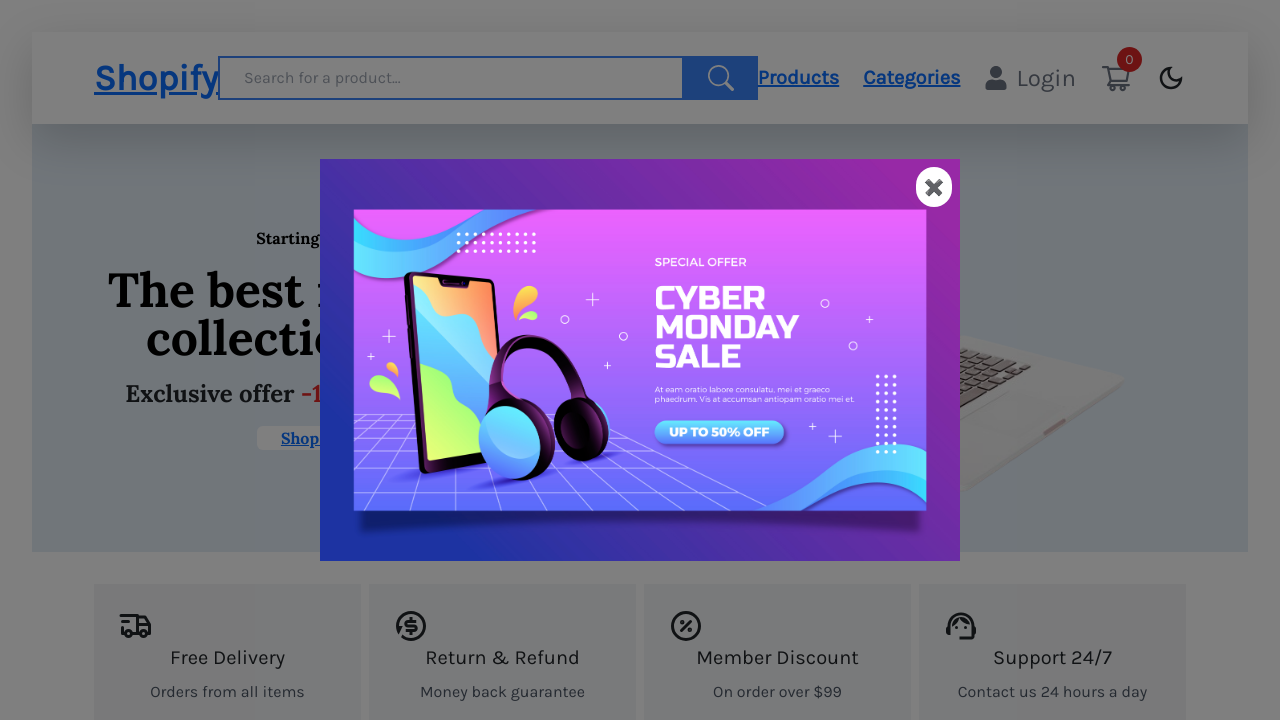
Test case: testing navbar functions › login & logout works properly
Click the button with test id "close-popup-btn" at (934, 187), box [916,167,952,207]
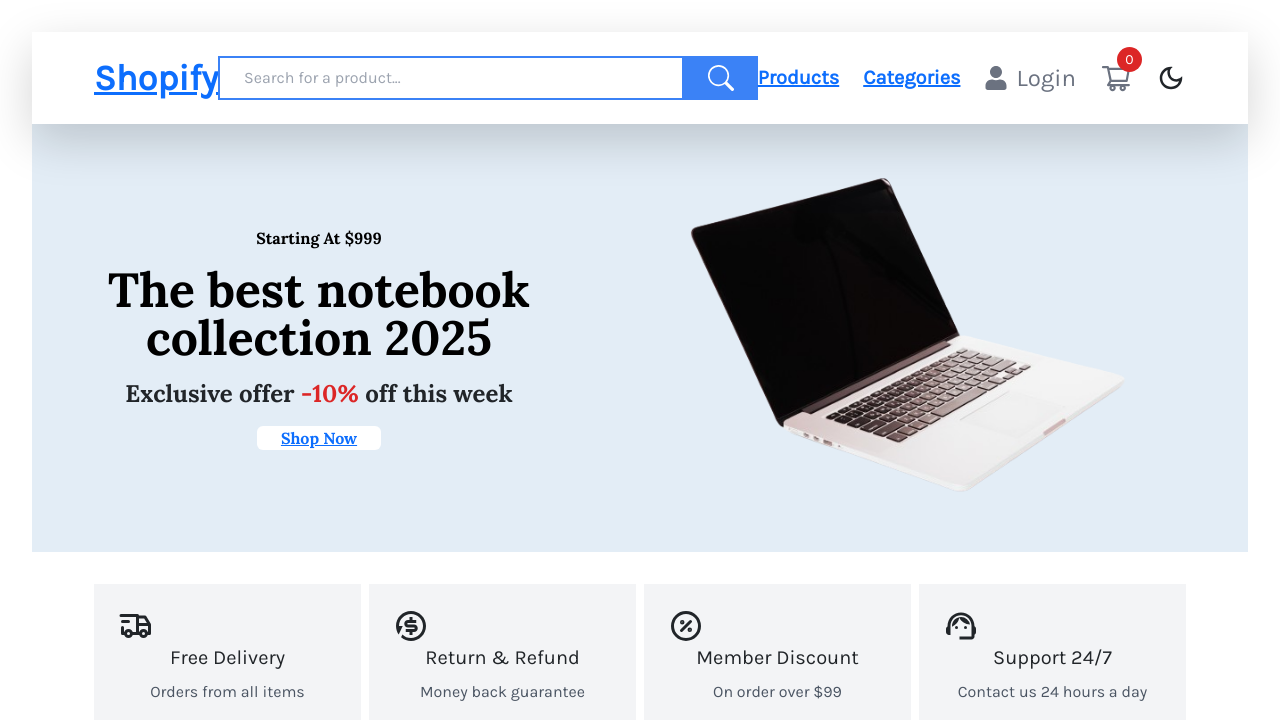
Click the text with test id "login-btn" at (1047, 78), box [1017,64,1077,92]
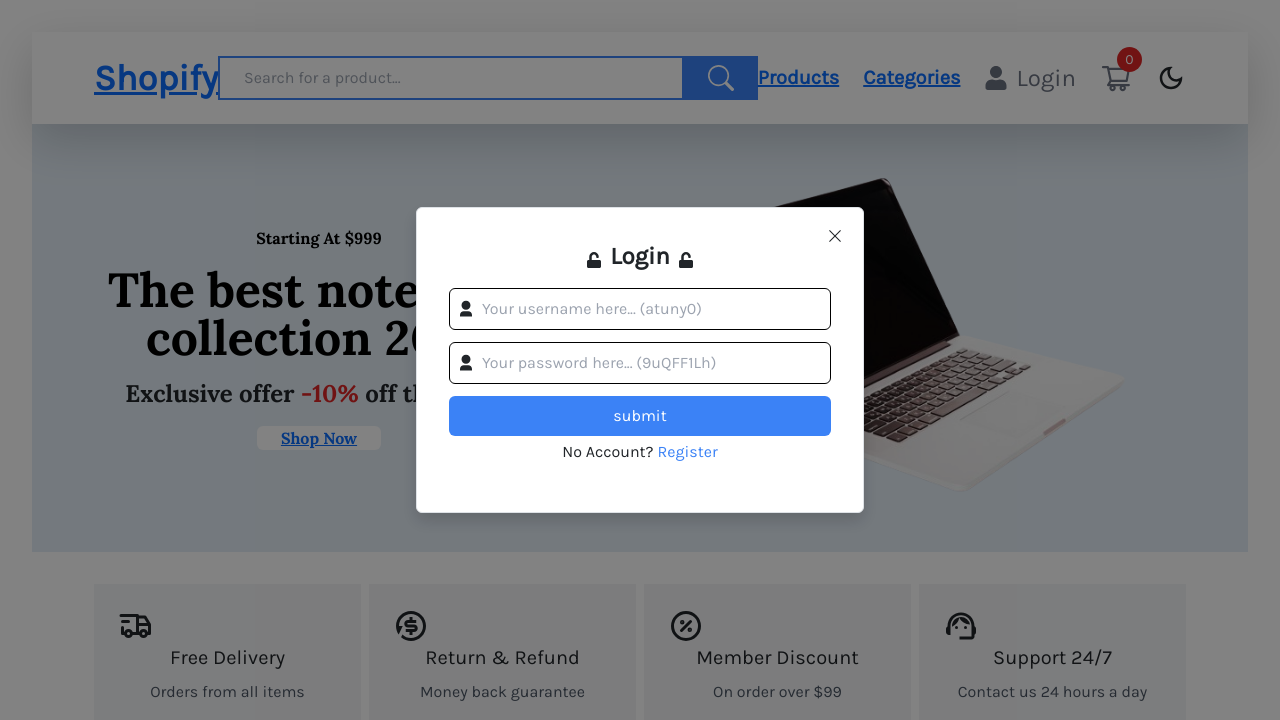
Type "atuny0" into the field with test id "input-username" at (640, 309), box [449,288,831,330]
Type "9uQFF1Lh" into the password field with test id "input-password" at (640, 363), box [449,342,831,384]
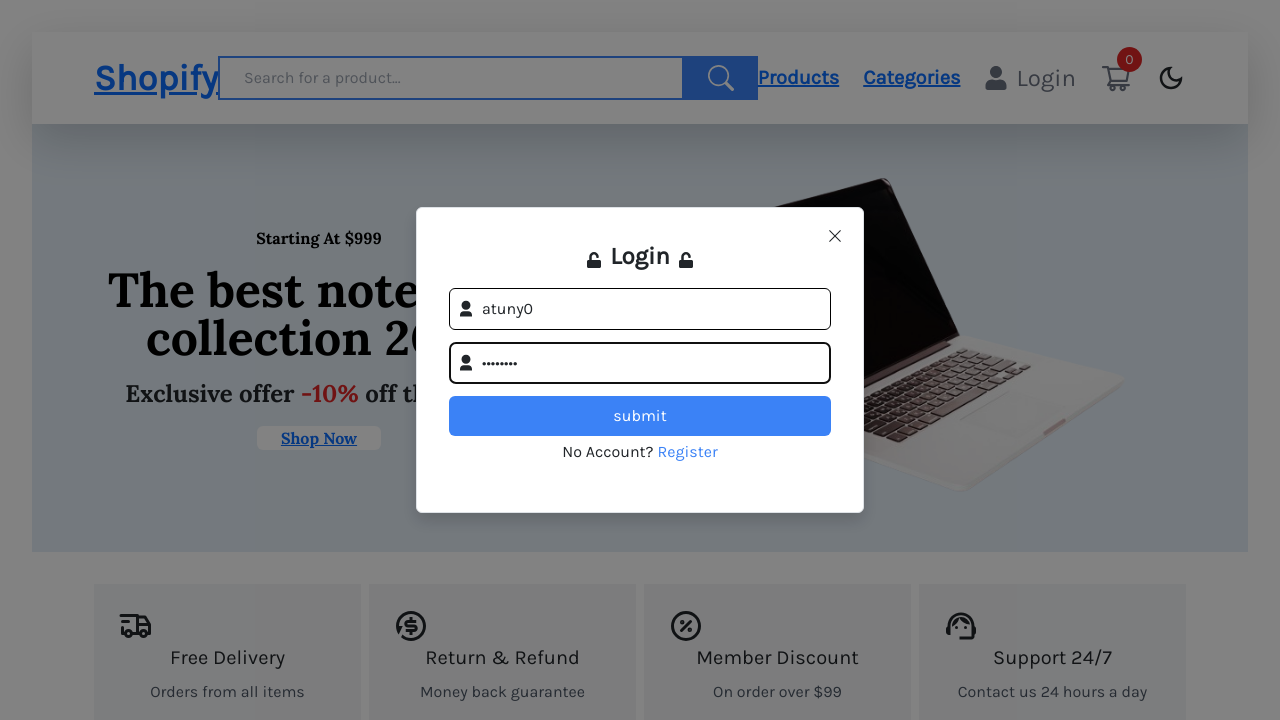
Click the button with test id "input-submit" at (640, 416), box [449,396,831,436]
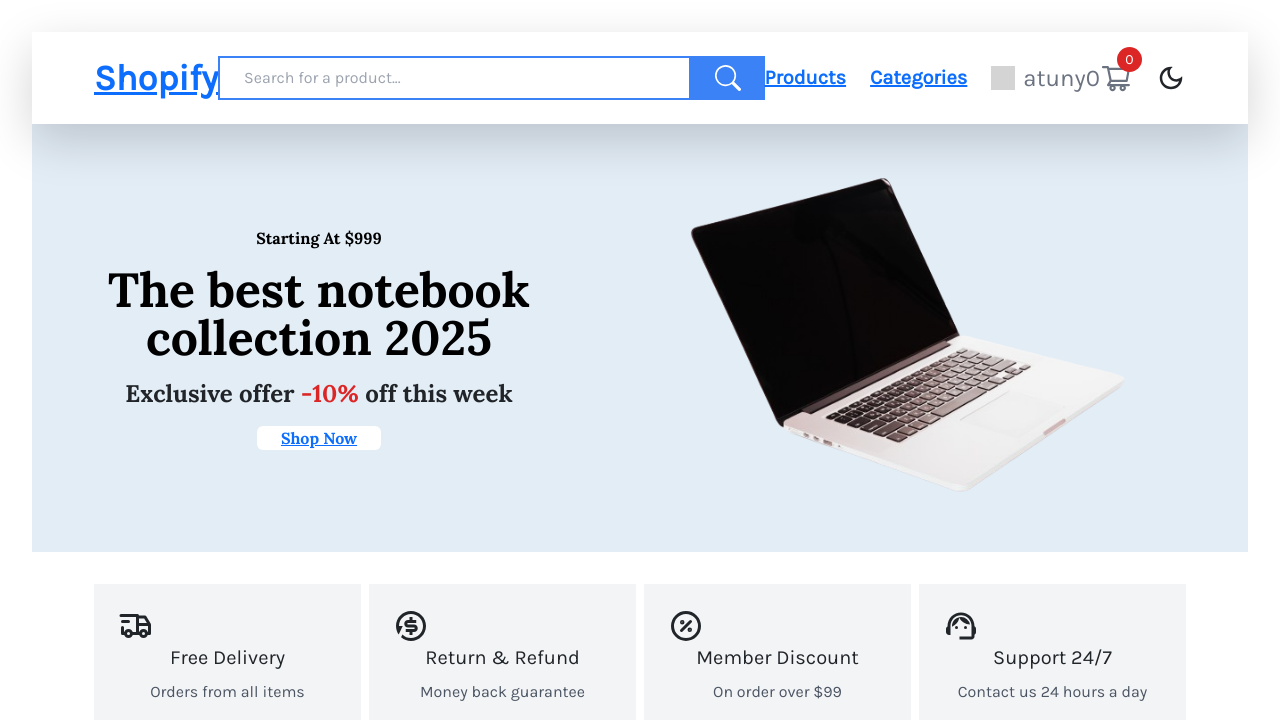
Click the text with test id "username-popup" at (1062, 78), box [1023,62,1100,94]
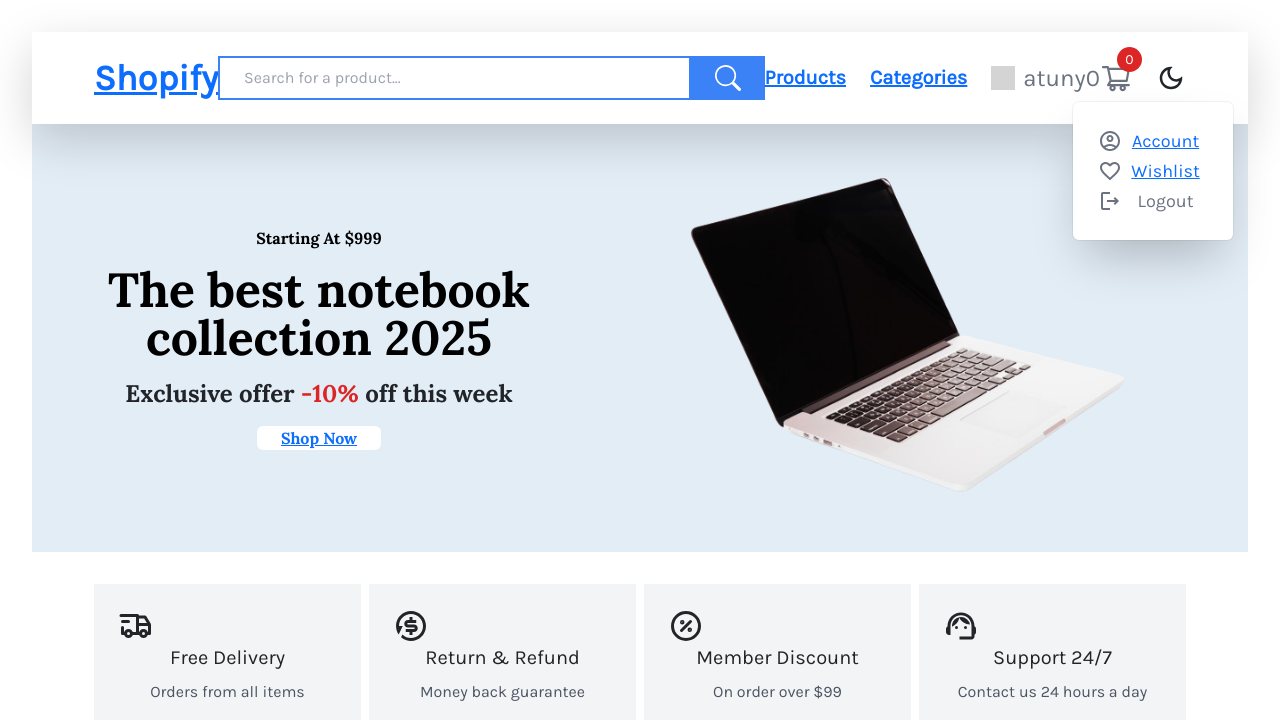
Result: the element with test id "popup-content-list" is shown at [1073,102,1233,240]
Click the cell with test id "logout-btn" at (1162, 201), box [1123,186,1200,216]
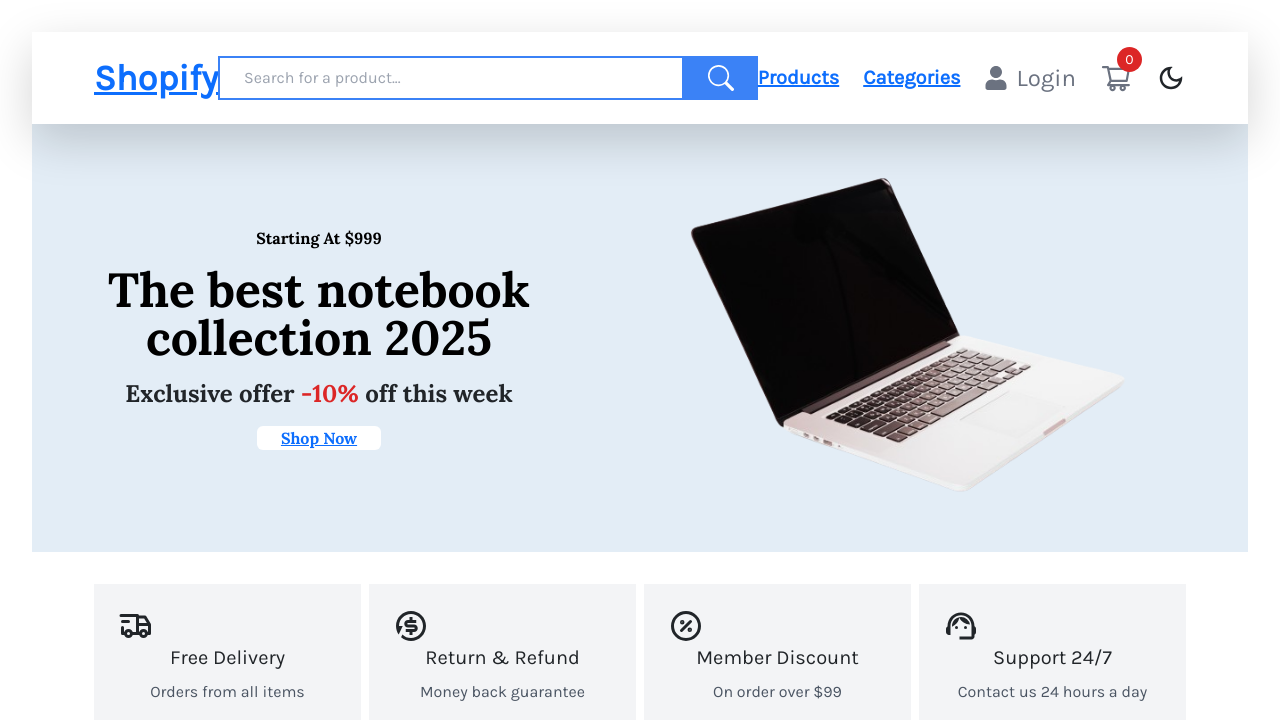
Result: the element with test id "popup-content-list" is gone
Result: the text "Login" is shown at [1016,64,1076,92]
